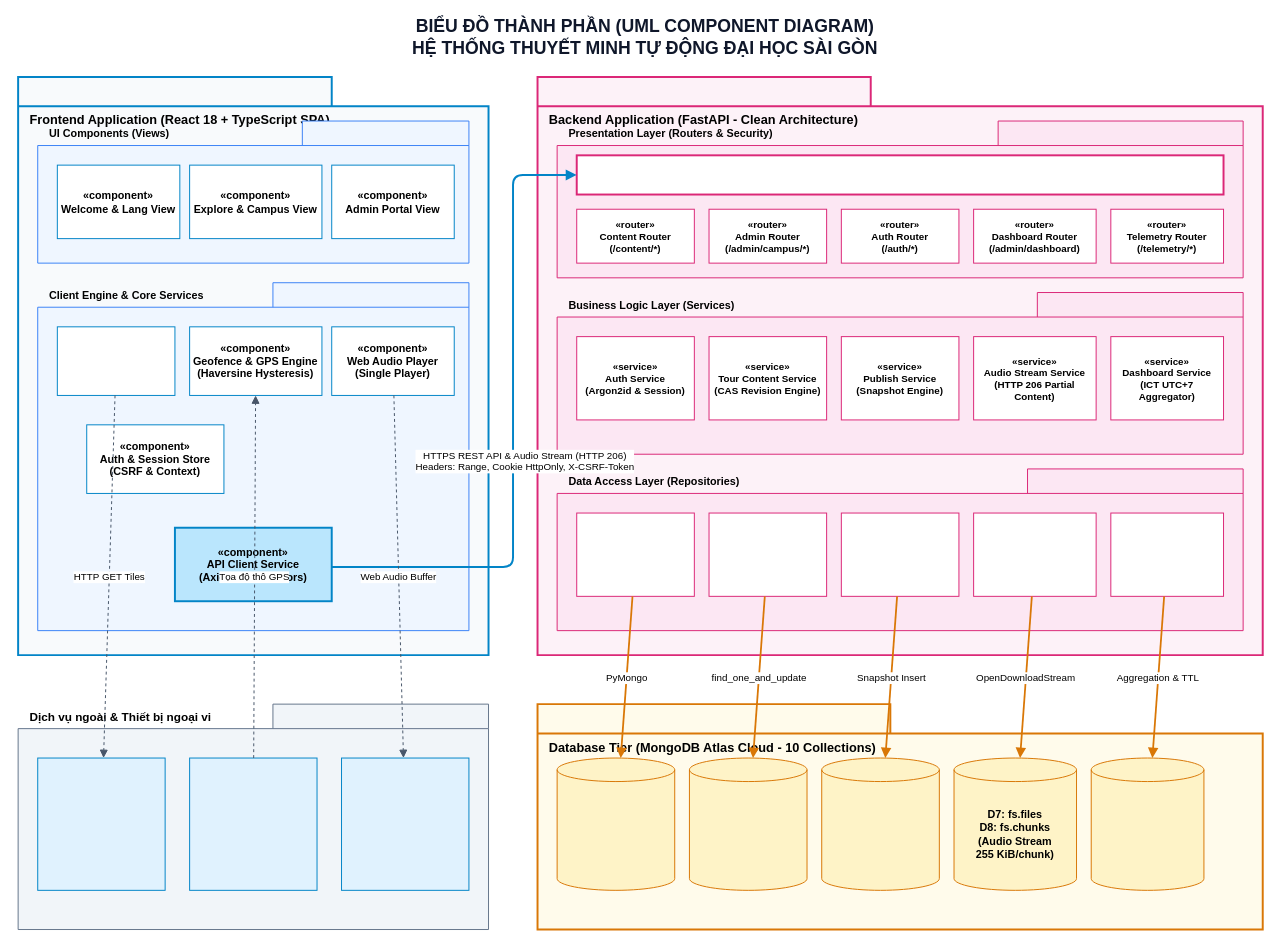
The diagram is 1280 pixels wide and 948 high, and some of its shapes have lost their labels. Each missing label, with the centre of its shape:
D1: users D2: sessions (TTL 7 ngày): point (615, 823)
D3: tours (CAS Revision) D5: audio_selections D6: assets: point (747, 823)
D4: tour_releases (Immutable Snapshots 10 POI): point (880, 823)
D9: usage_events D10: visitor_presence (TTL 180s): point (1147, 823)
«component» MapLibre GL Controller: point (115, 360)
«external service» Stadia Maps Raster Tile Server: point (101, 823)
«hardware device» Cảm biến GPS / Geolocation API: point (253, 823)
«hardware device» Loa / Tai nghe (Web Audio Output): point (405, 823)
«middleware» Security Middleware (CORS, CSRF HMAC, JWT HttpOnly Cookie): point (899, 174)
«repository» Events & Presence Repository: point (1167, 554)
«repository» GridFS Bucket Repository: point (1034, 554)
«repository» Release Snapshot Repository: point (899, 554)
«repository» Tour, Draft & Asset Repository: point (767, 554)
«repository» User & Session Repository: point (635, 554)
